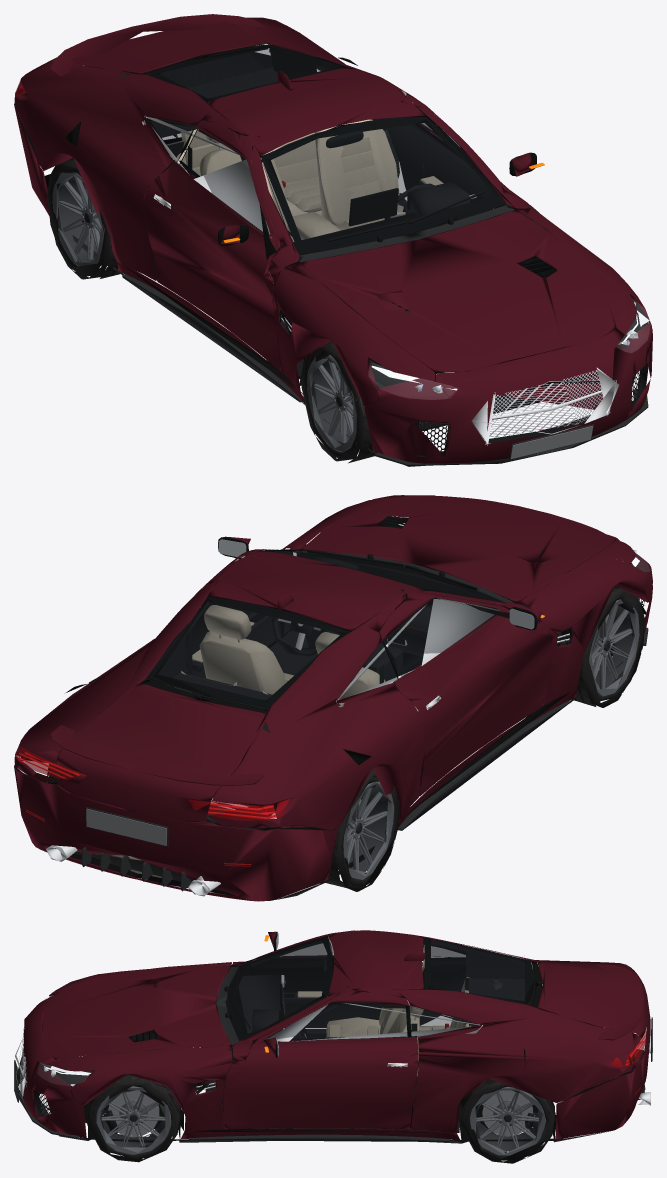
3 views of the same model, one above another, from view 1: azimuth 30°, elevation 25°; view 2: azimuth 150°, elevation 25°; view 3: azimuth 270°, elevation 25° (orthographic). The views are drawn at different scales.
Parts seen in each view (by area): view 1: Body, Wheel_FR, Wheel_RR; view 2: Body, Wheel_FR, Wheel_RR, Steering_Wheel; view 3: Body, Wheel_FL, Wheel_RL.
Part boxes in pixels (x1,y1,x2,y2): Body: (14,14,652,466); Wheel_FR: (301,344,383,463); Wheel_RR: (47,158,119,279); Body: (14,495,652,901); Wheel_FR: (556,586,644,707); Wheel_RR: (325,768,399,891); Steering_Wheel: (271,609,331,656); Body: (14,930,652,1143); Wheel_FL: (87,1074,179,1162); Wheel_RL: (460,1081,554,1163).
Bounding box in the file's own units: 2.07 × 1.32 × 4.78.
59 materials, 13 textured.
